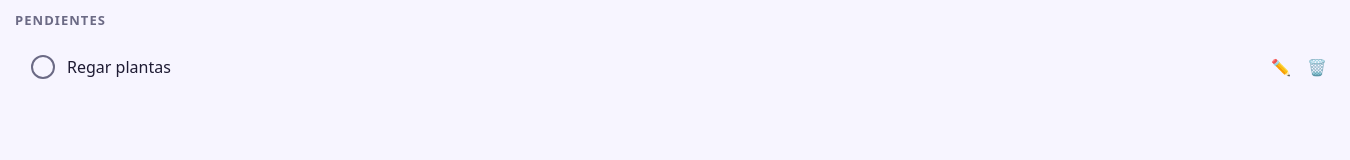
Test: TaskRow (rendered through TaskList like production) › deletes instantly via the trash icon
The width and height of the screenshot is (1350, 160).
Step 1. Click the button named "Eliminar Regar plantas" → x=1317, y=66, box [1301, 50, 1333, 82]
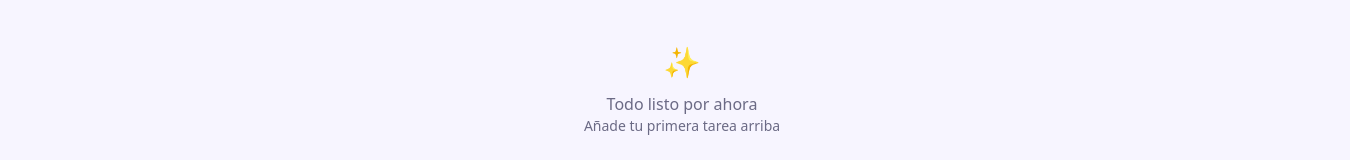
Result: the text "Todo listo por ahora" is shown at [607, 93, 757, 115]
